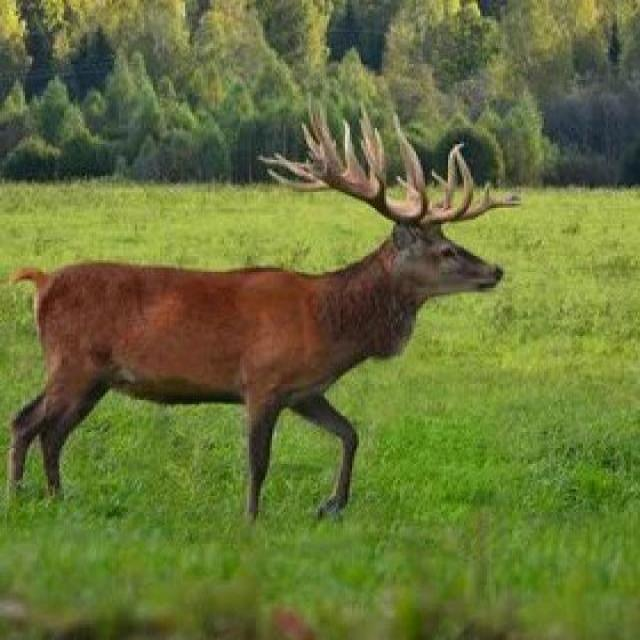deer: (0, 115, 541, 546)
